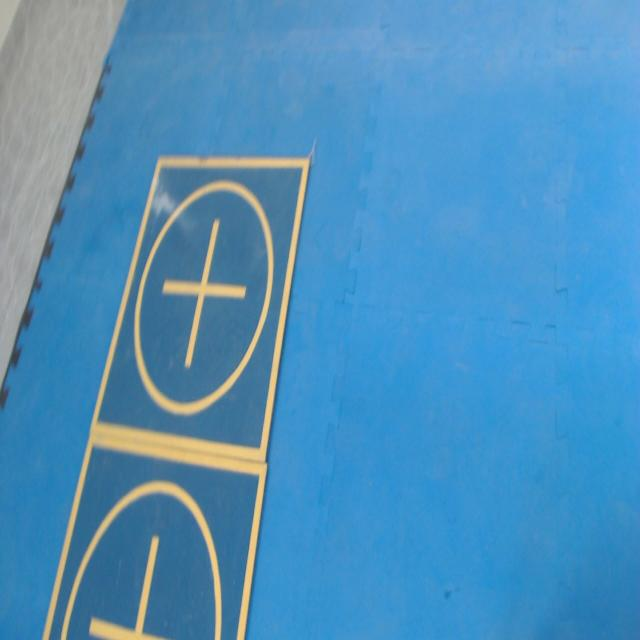base_pouso: (89, 155, 312, 462), (40, 432, 267, 639)
